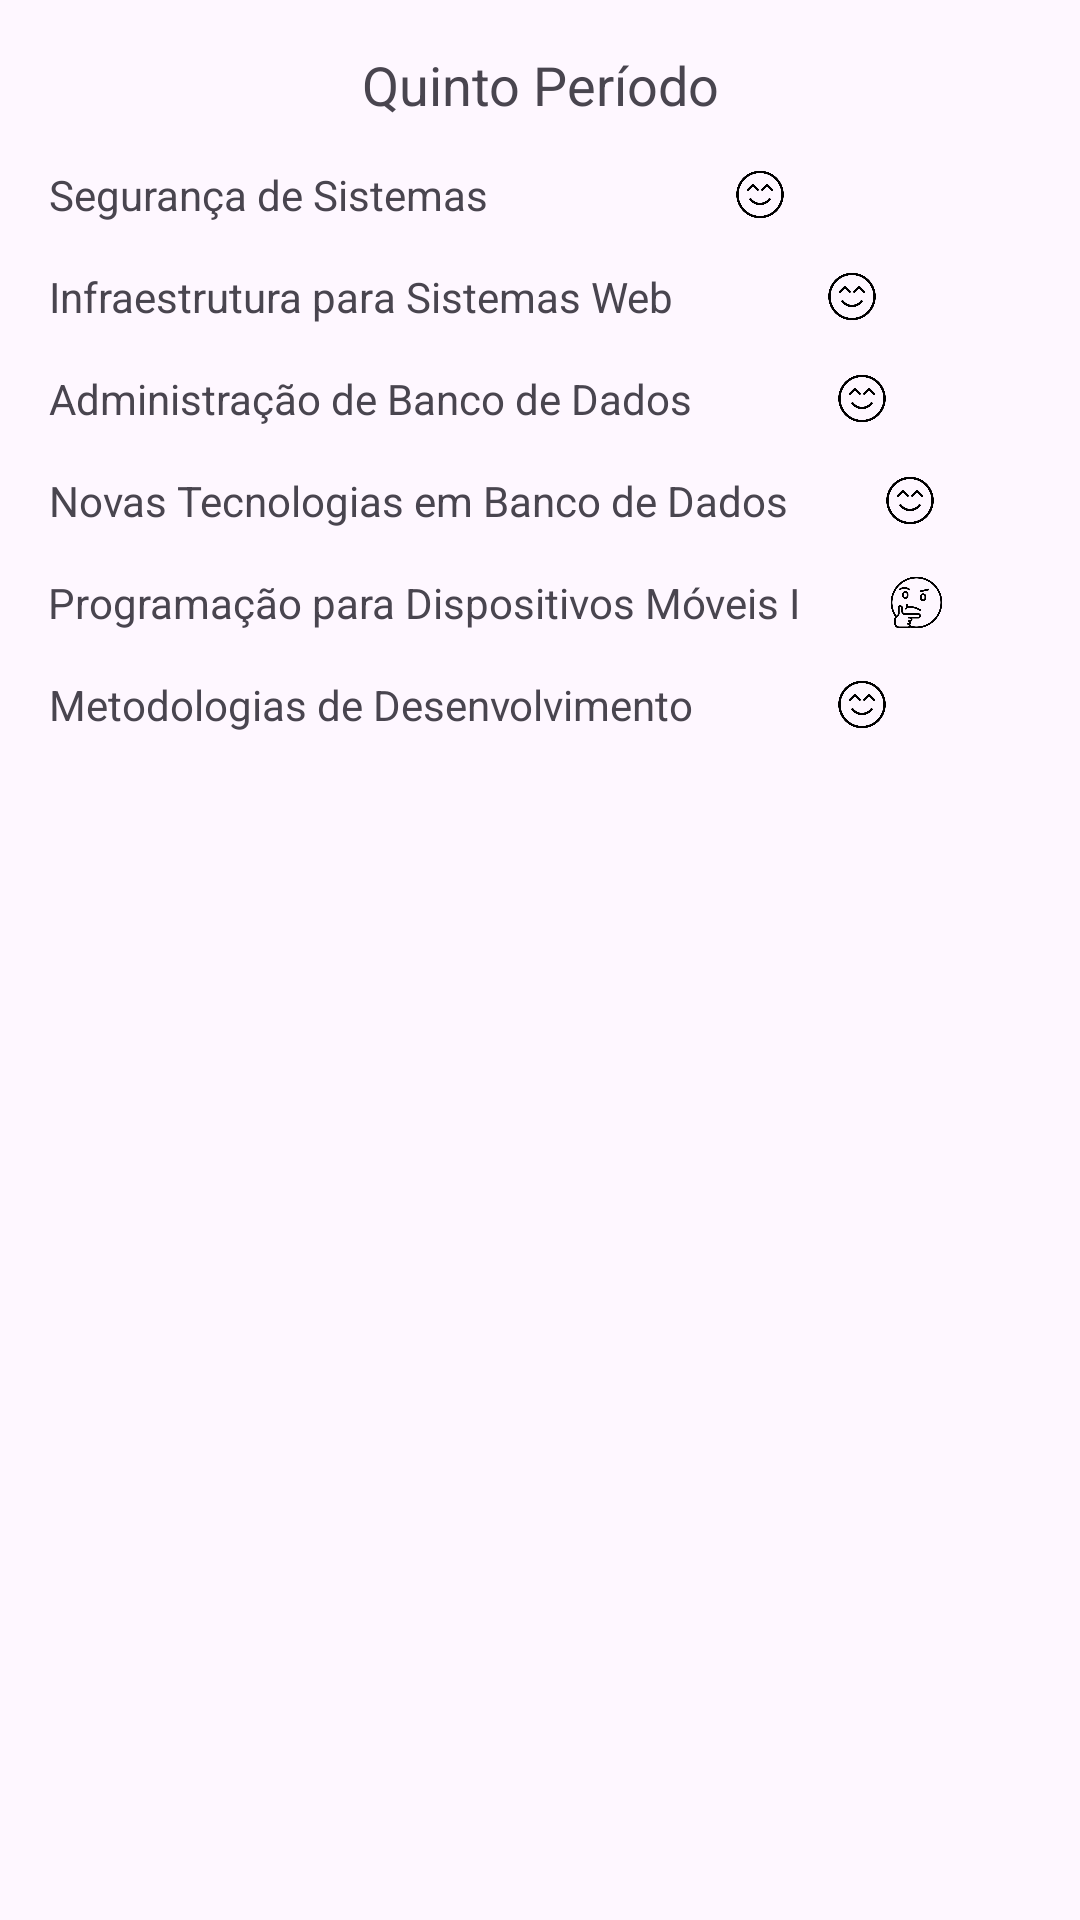

Named icons in this screenshot (1080 x 1920) and their centers, (x=x, y=y):
smiling face with eyes: (x=760, y=194), (x=852, y=296), (x=862, y=398), (x=910, y=500), (x=862, y=704)
thinking face: (x=916, y=602)
